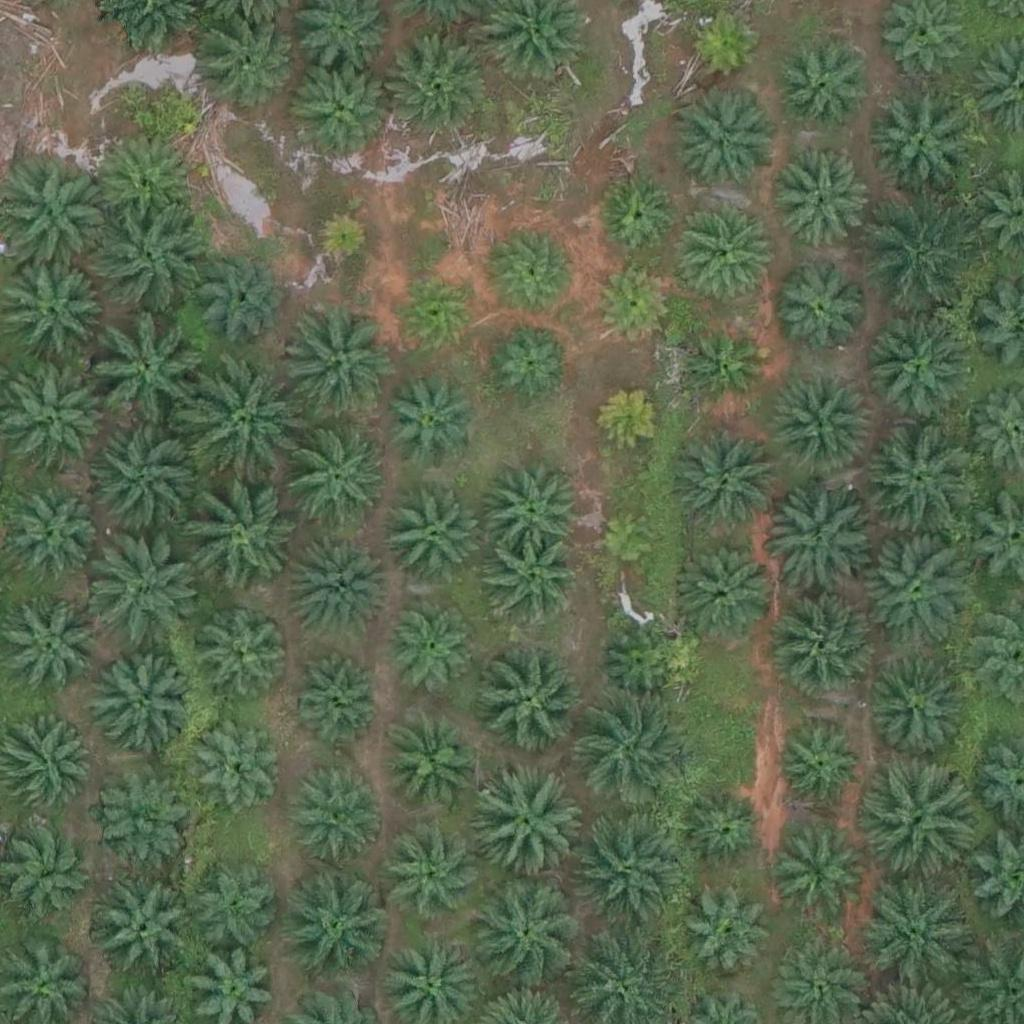Kelapa_Sawit: (862, 537, 975, 651), (669, 421, 782, 535), (576, 814, 689, 928), (473, 642, 586, 756), (865, 419, 978, 532), (862, 756, 975, 869), (767, 487, 880, 600), (466, 770, 579, 883), (88, 422, 201, 535), (863, 83, 976, 196), (864, 206, 977, 319), (185, 369, 298, 482), (91, 318, 204, 431), (87, 539, 199, 653), (379, 30, 491, 144), (861, 877, 973, 990), (579, 693, 691, 806), (469, 877, 581, 990), (181, 478, 293, 591), (282, 305, 394, 418), (97, 201, 209, 314), (868, 657, 968, 758), (768, 374, 868, 475), (781, 597, 881, 698), (682, 538, 782, 639), (482, 458, 582, 559), (376, 371, 476, 472), (383, 487, 483, 588), (383, 711, 483, 812), (385, 828, 485, 929), (289, 427, 389, 528), (286, 760, 386, 861), (285, 879, 385, 980), (194, 600, 294, 701), (94, 655, 194, 756), (98, 884, 198, 985), (774, 32, 874, 133), (774, 142, 874, 243), (767, 265, 867, 366), (672, 94, 772, 195), (671, 202, 771, 303), (190, 14, 290, 115), (96, 131, 196, 232), (4, 265, 104, 366), (285, 542, 385, 642), (90, 767, 190, 867), (872, 316, 972, 416), (295, 61, 395, 161), (386, 609, 474, 698), (685, 894, 773, 982), (599, 623, 687, 711), (491, 538, 579, 626), (291, 653, 379, 741), (490, 226, 578, 314), (490, 318, 578, 406), (588, 258, 676, 346), (596, 169, 684, 257), (203, 251, 291, 339), (777, 724, 864, 813), (781, 839, 868, 927), (680, 791, 767, 879), (192, 721, 279, 809), (192, 862, 279, 950), (11, 492, 98, 580), (391, 268, 478, 356), (681, 318, 768, 406), (593, 380, 668, 456), (308, 209, 371, 272), (598, 509, 660, 572)
